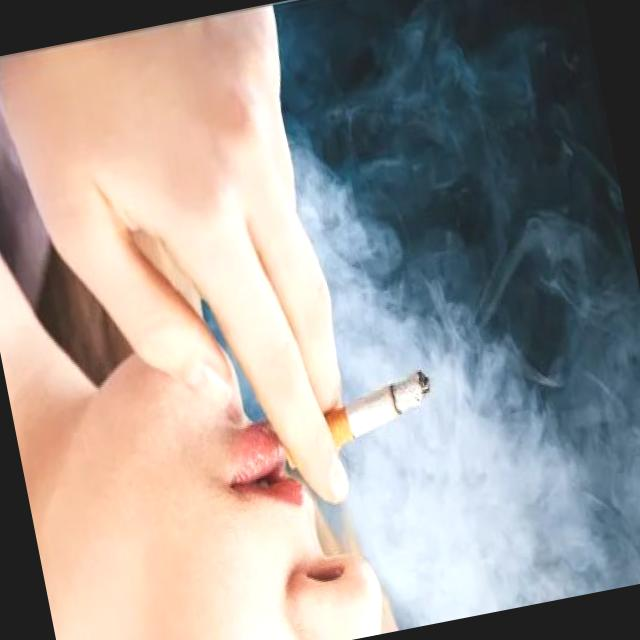smoke: (270, 366, 445, 472)
